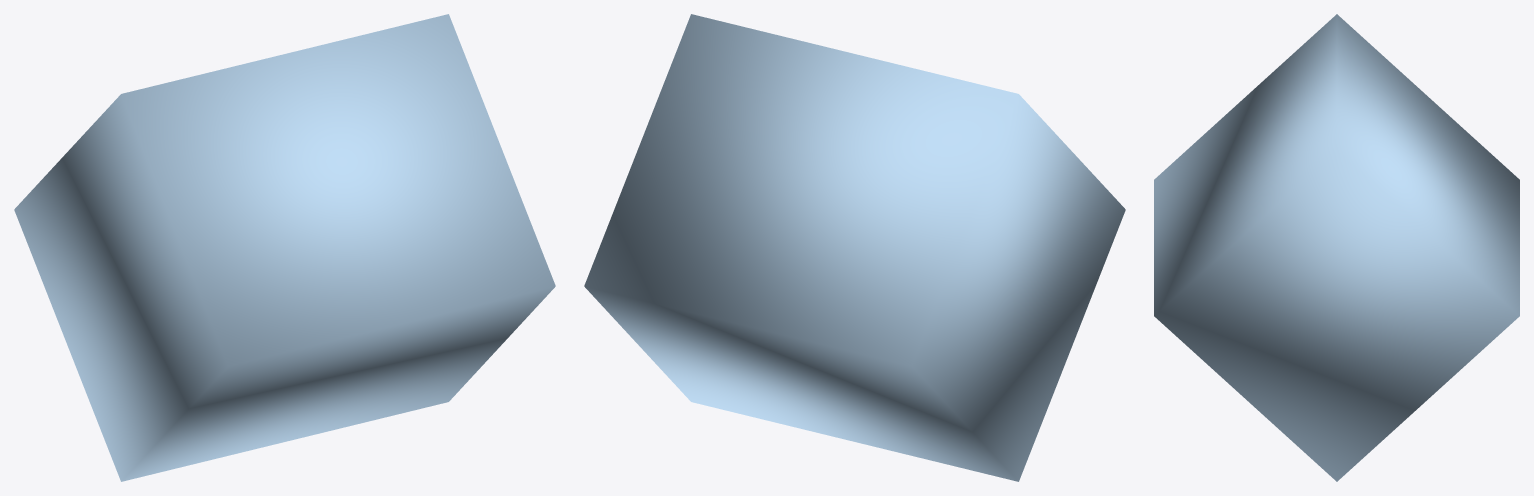
The model's file is malachite.glb.
3 renders of one model, left to right at view 1: azimuth 30°, elevation 25°; view 2: azimuth 150°, elevation 25°; view 3: azimuth 270°, elevation 25°, orthographic. The views are drawn at different scales.
Visible parts, largest first — view 1: malachite; view 2: malachite; view 3: malachite.
Boxes of the visible parts, x1,y1,x2,y2 form: malachite: (14,14,555,481); malachite: (584,14,1125,481); malachite: (1154,14,1519,481).
Bounding box in the file's own units: 1 × 1.13 × 1.13.
